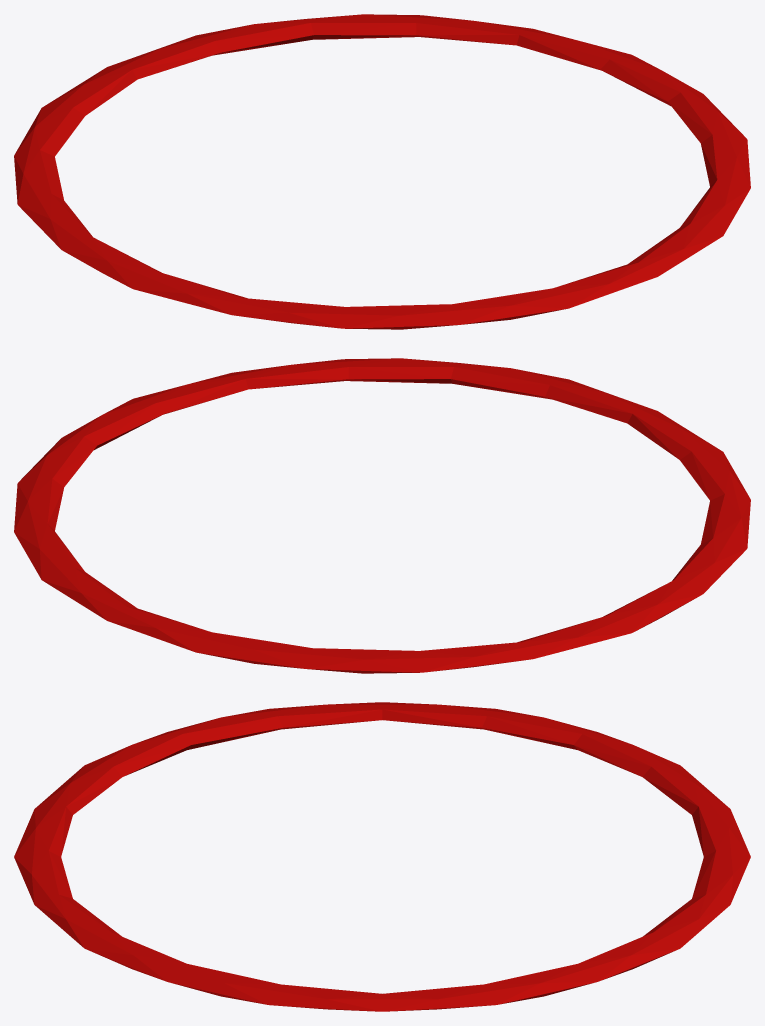
The model's file is squirrelVictory.obj.
3 views of the same model, one above another, from view 1: azimuth 30°, elevation 25°; view 2: azimuth 150°, elevation 25°; view 3: azimuth 270°, elevation 25° (orthographic).
Parts seen in each view (by area): view 1: Icosphere.001; view 2: Icosphere.001; view 3: Icosphere.001.
Part boxes in pixels (x1,y1,x2,y2): Icosphere.001: [14, 14, 750, 329]; Icosphere.001: [14, 358, 750, 673]; Icosphere.001: [14, 702, 750, 1011].
Bounding box in the file's own units: 7 × 0.1466 × 7.05.
